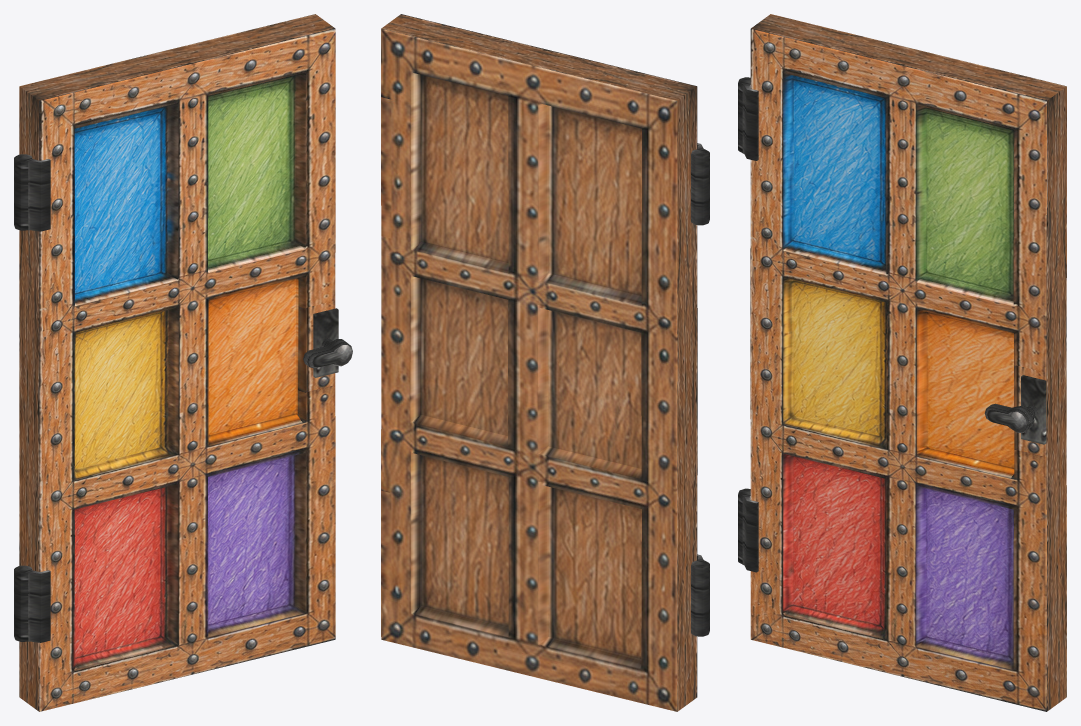
Rendered from fantasy-door.glb.
The picture shows the model from 3 angles, left to right: view 1: azimuth 30°, elevation 25°; view 2: azimuth 150°, elevation 25°; view 3: azimuth 330°, elevation 25°; orthographic projection.
Visible parts, largest first — view 1: DoorHinge; view 2: DoorHinge; view 3: DoorHinge.
Boxes of the visible parts, <box> form: DoorHinge: <box>14,14,352,711</box>; DoorHinge: <box>381,14,709,711</box>; DoorHinge: <box>738,14,1066,711</box>.
Bounding box in the file's own units: 1.1 × 2.05 × 0.243.
1 material, 1 textured.
